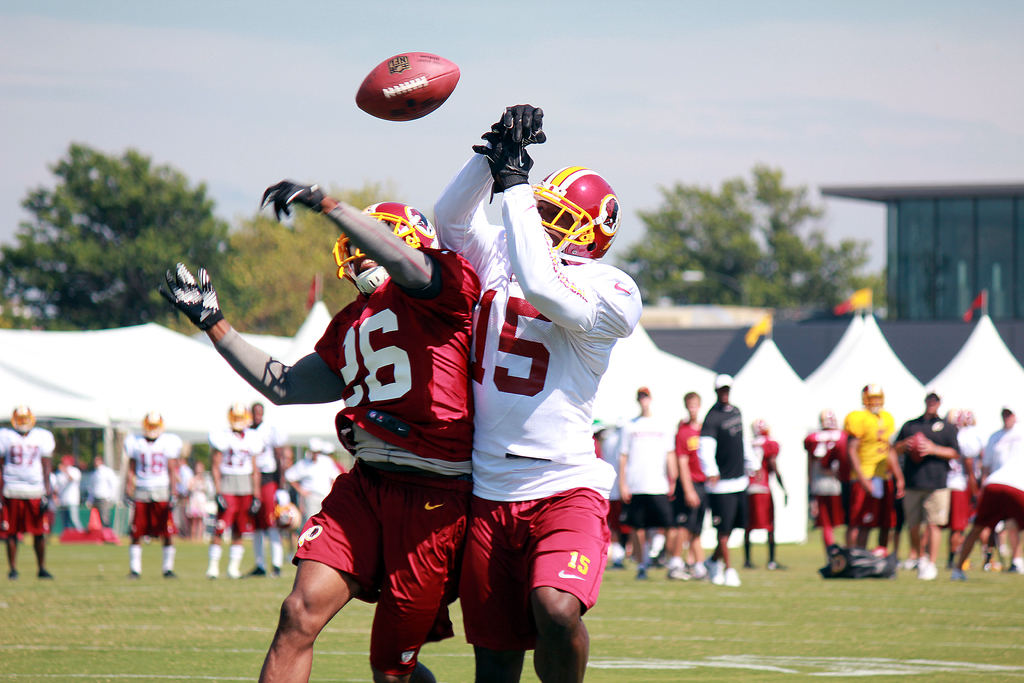Ball: (352, 50, 462, 122)
